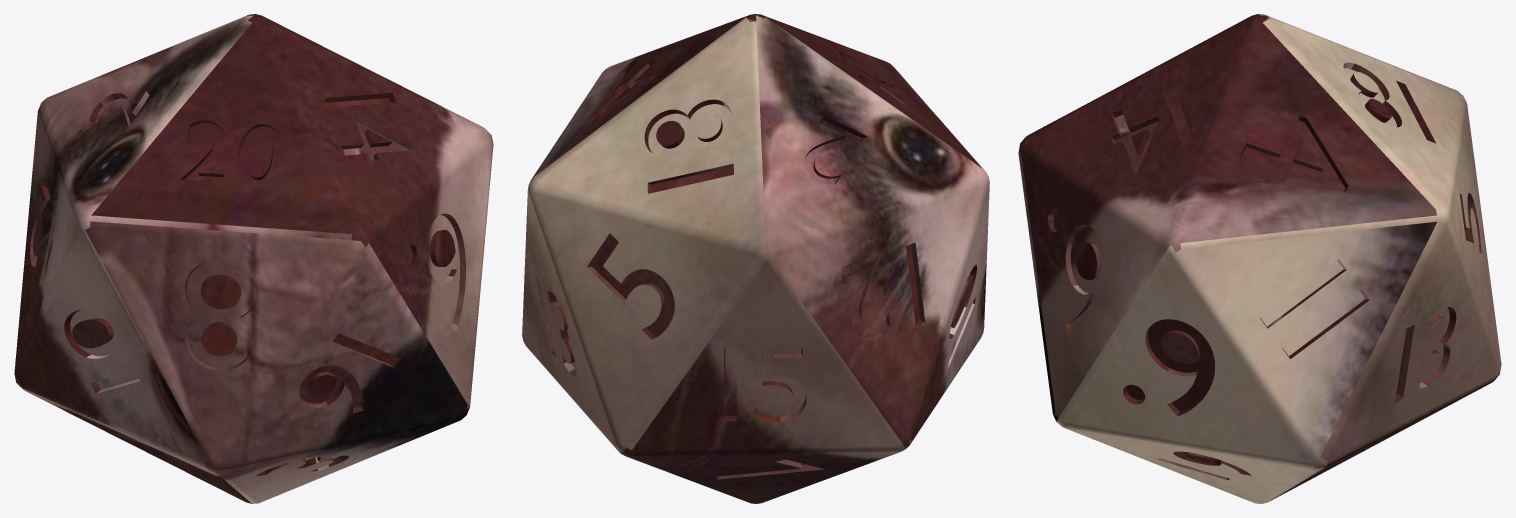
The model's file is Dice_Textured5.gltf.
3 views of the same model, side by side, from view 1: azimuth 30°, elevation 25°; view 2: azimuth 150°, elevation 25°; view 3: azimuth 270°, elevation 25° (orthographic).
Visible parts, largest first — view 1: Icosphere; view 2: Icosphere; view 3: Icosphere.
Part boxes in pixels (box(x1,y1,x2,y2)): Icosphere: box(14, 14, 493, 503); Icosphere: box(522, 14, 989, 503); Icosphere: box(1018, 14, 1501, 503).
Bounding box in the file's own units: 3.94 × 4.5 × 4.04.
1 material, 1 textured.
